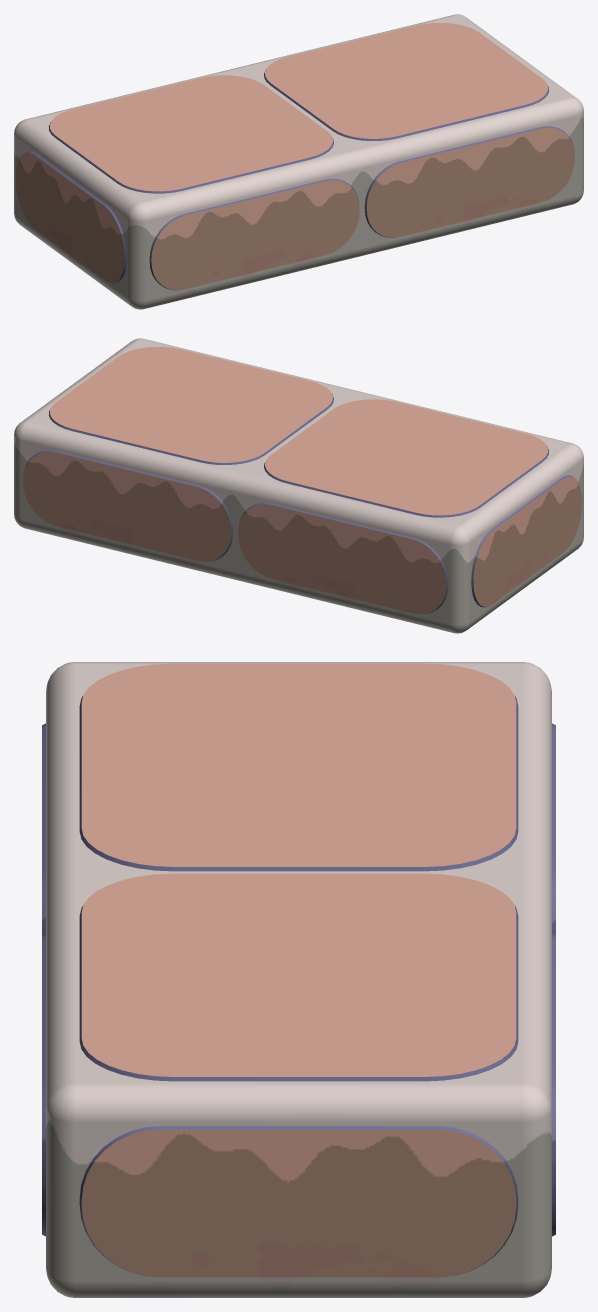
The model's file is R4B_Plate1x2.glb.
3 views of the same model, one above another, from view 1: azimuth 30°, elevation 25°; view 2: azimuth 150°, elevation 25°; view 3: azimuth 270°, elevation 25° (orthographic). The views are drawn at different scales.
Visible parts, largest first — view 1: R4B_Plate1x2; view 2: R4B_Plate1x2; view 3: R4B_Plate1x2.
Part boxes in pixels (x1,y1,x2,y2): R4B_Plate1x2: (14, 14, 583, 309); R4B_Plate1x2: (14, 338, 583, 633); R4B_Plate1x2: (42, 662, 555, 1297).
Bounding box in the file's own units: 1.07 × 0.245 × 0.52.
Materials: 3 (3 with a texture image).
